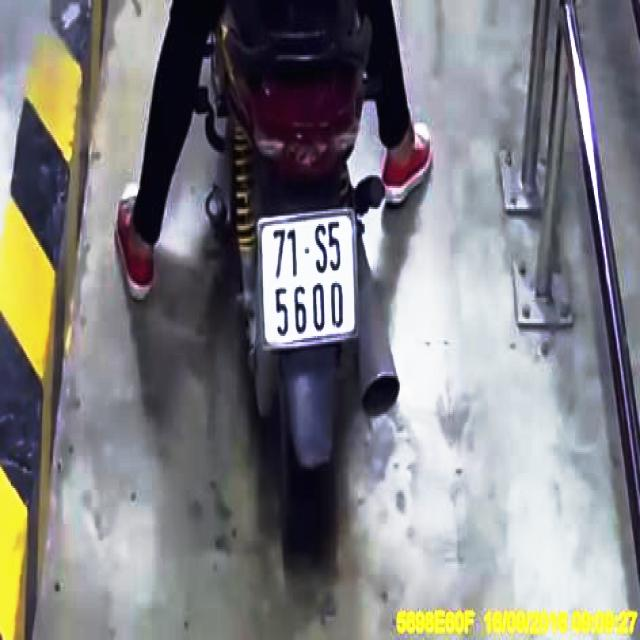license_plate: (259, 210, 362, 352)
